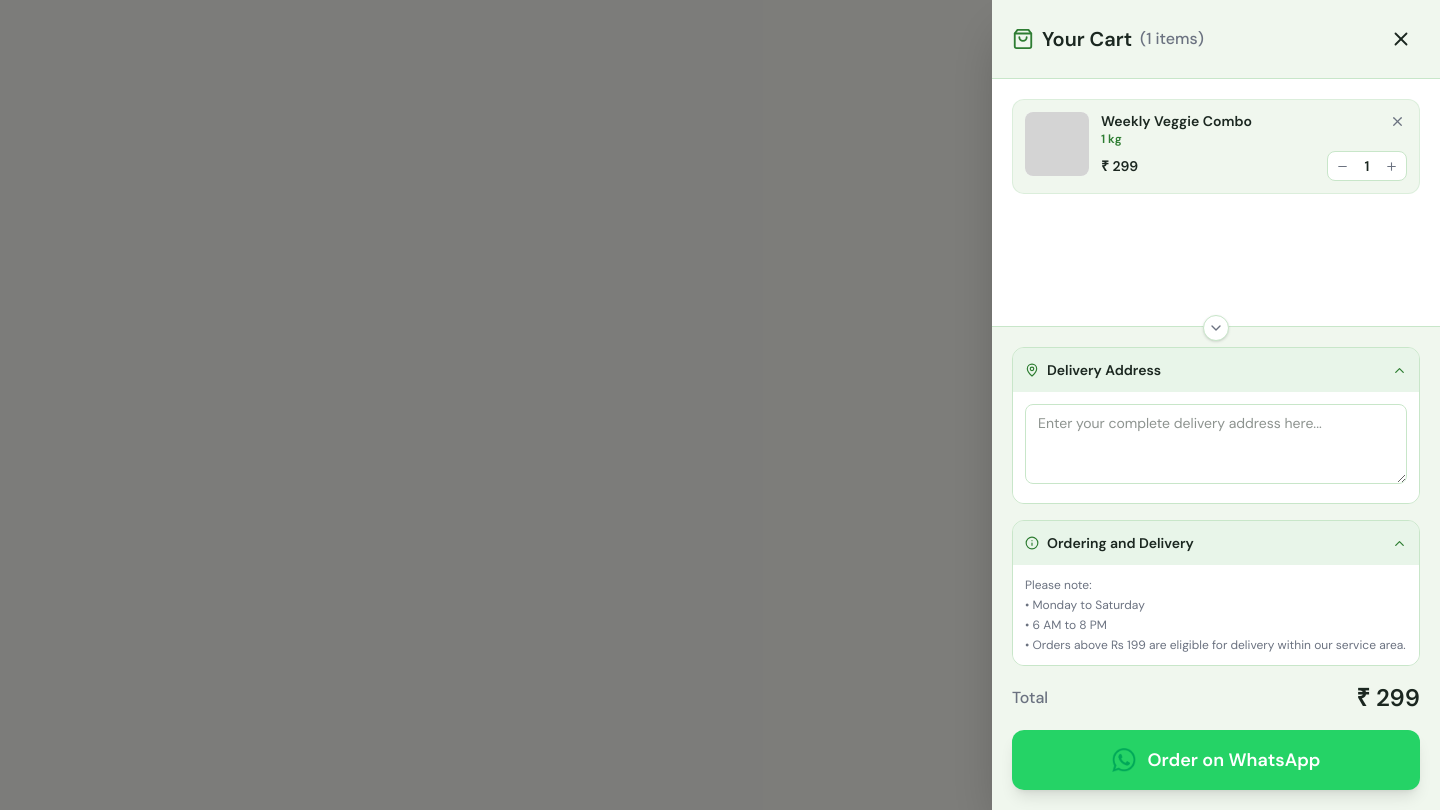
<CartSidebar> checkout flow › shows a manual fallback link when the popup is blocked
Type "12 Main St" into the text box with placeholder "Enter your complete delivery address here..." at (1216, 444), box [1025, 404, 1407, 484]
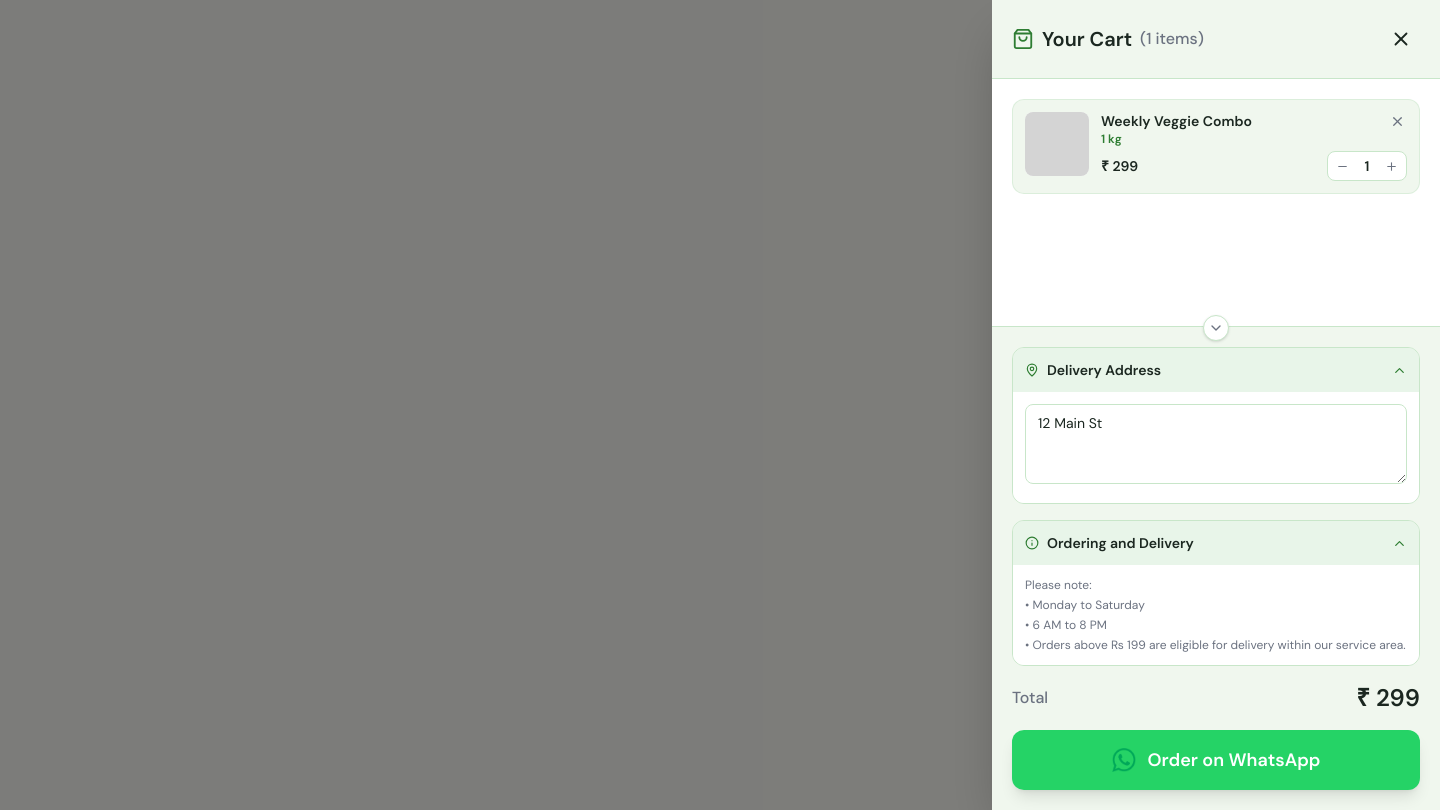
Click the button "Order on WhatsApp" at (1216, 760), box [1012, 730, 1420, 790]
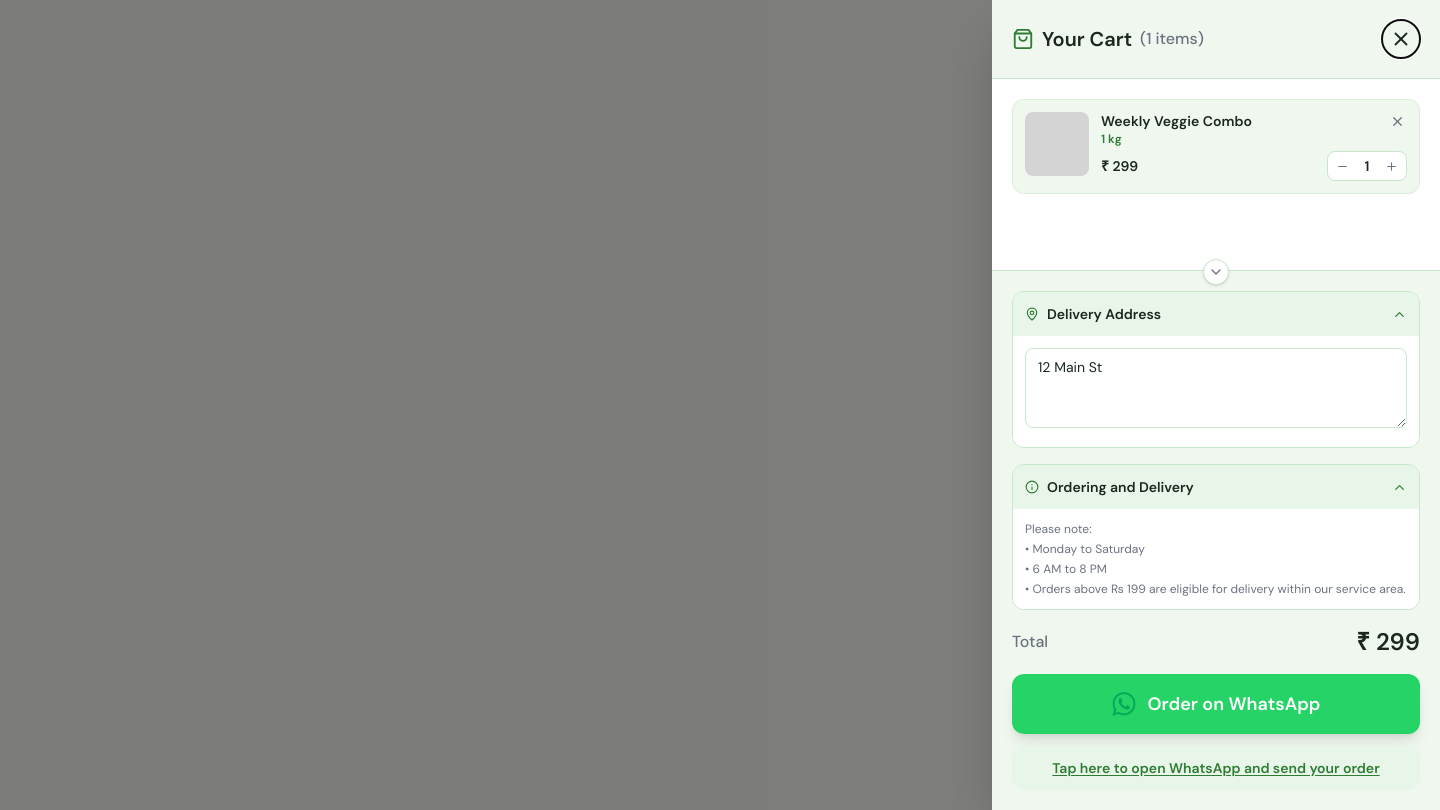
Expected: the link "Tap here to open WhatsApp and send your order" is shown, [1012, 746, 1420, 790]
